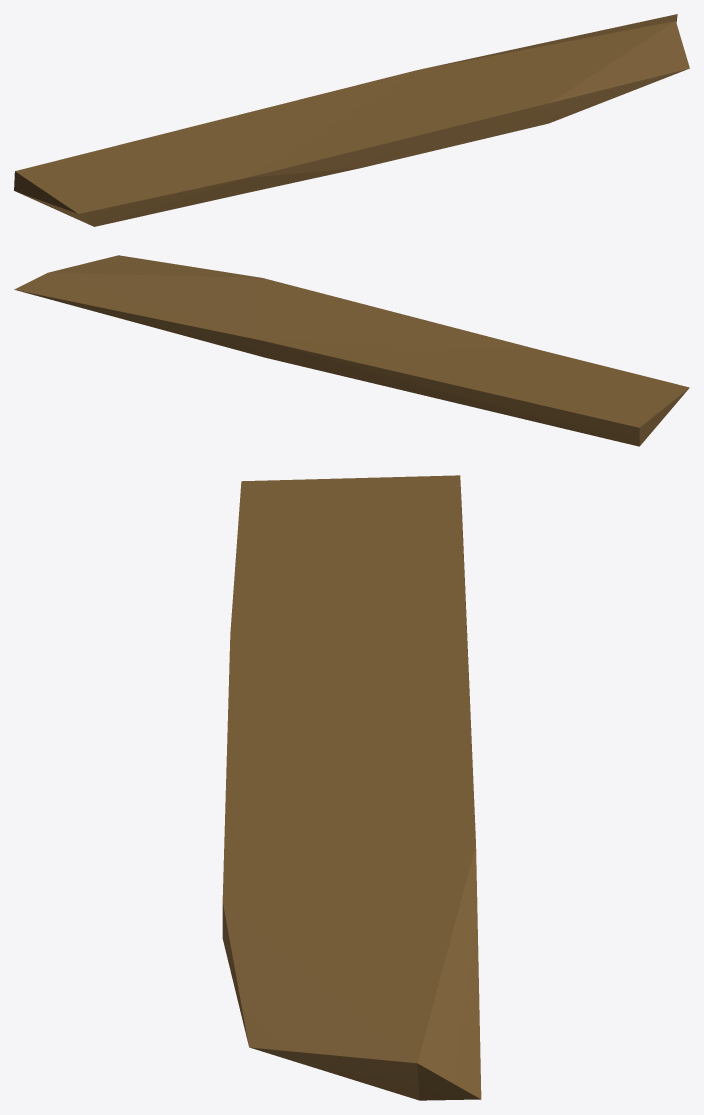
The model's file is Board_04.fbx.
The picture shows the model from 3 angles, top to bottom: view 1: azimuth 30°, elevation 25°; view 2: azimuth 150°, elevation 25°; view 3: azimuth 270°, elevation 25°; orthographic projection. The views are drawn at different scales.
Visible parts, largest first — view 1: Board_04; view 2: Board_04; view 3: Board_04.
Boxes of the visible parts, box(x1,y1,x2,y2) form: Board_04: box(14, 14, 689, 226); Board_04: box(14, 255, 689, 446); Board_04: box(222, 475, 481, 1100).
Size of the model in its own units: 1.68 by 0.0493 by 0.304.
